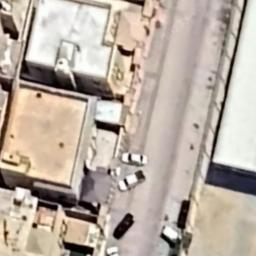sedan: (117, 170, 148, 192), (119, 150, 148, 166)
unknown: (110, 212, 138, 238)
